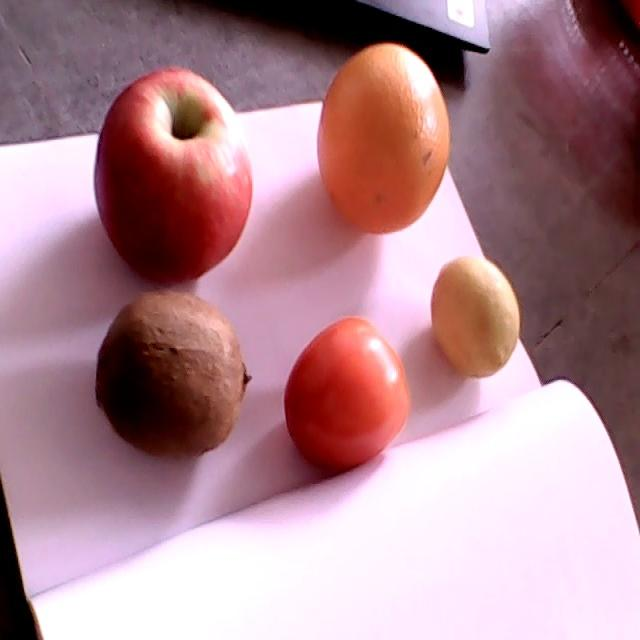apple: (94, 67, 253, 285)
kiwi: (95, 289, 252, 460)
lemon: (431, 257, 521, 378)
orange: (318, 43, 450, 235)
tomato: (284, 318, 411, 474)
